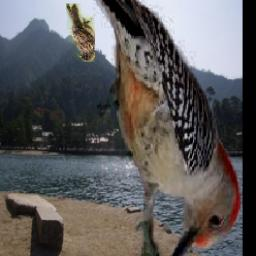Sparrow: (66, 3, 95, 62)
Woodpecker: (94, 0, 242, 256)
